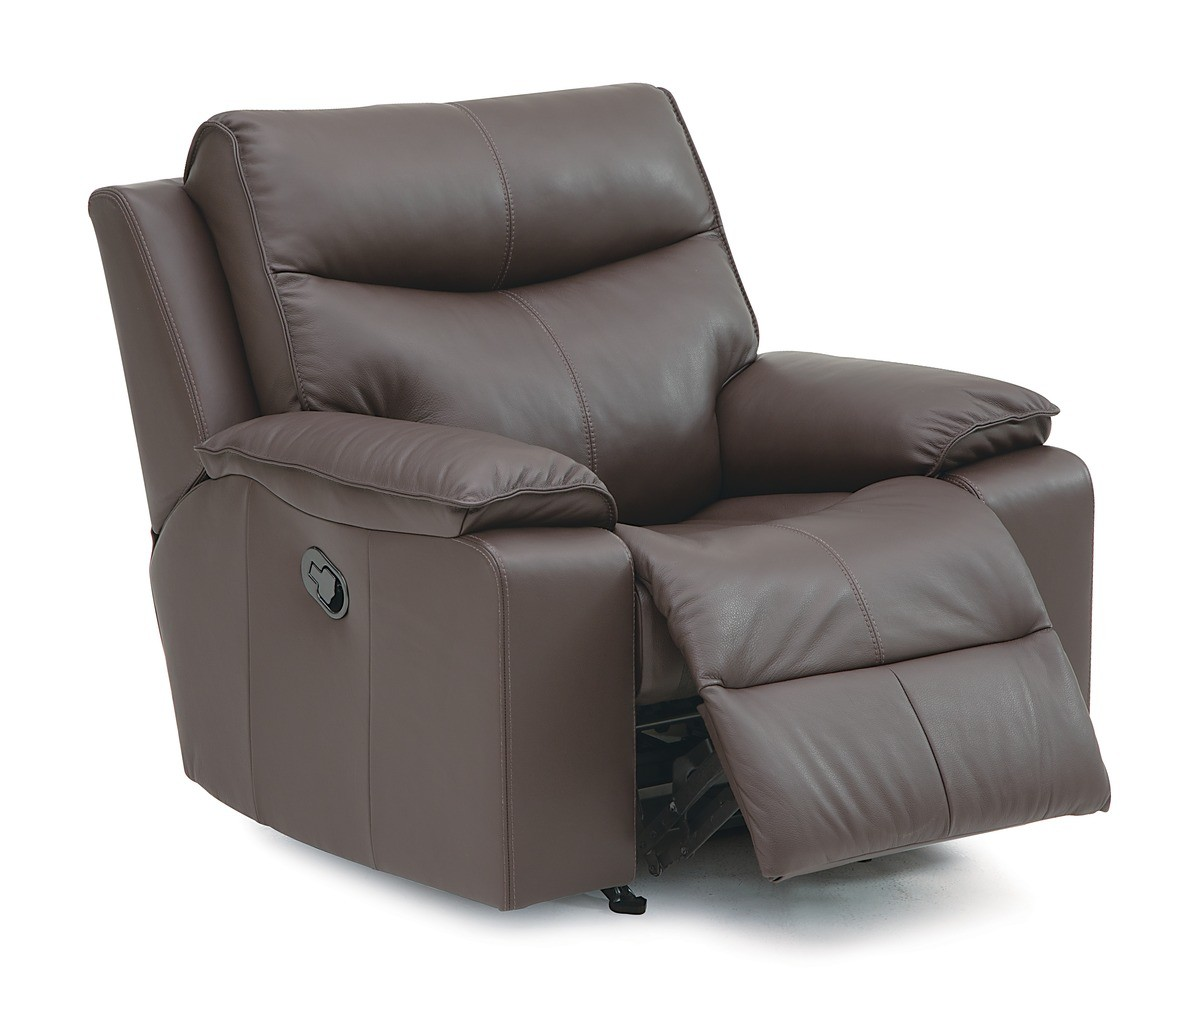chairs: (41, 79, 1112, 924)
